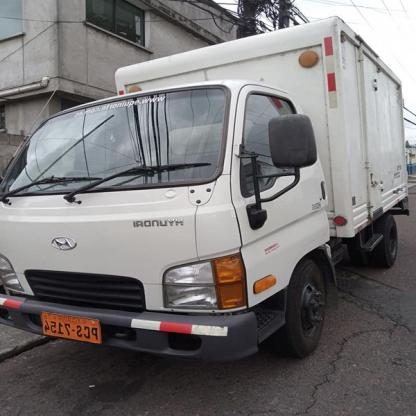Placa: (35, 312, 103, 350)
